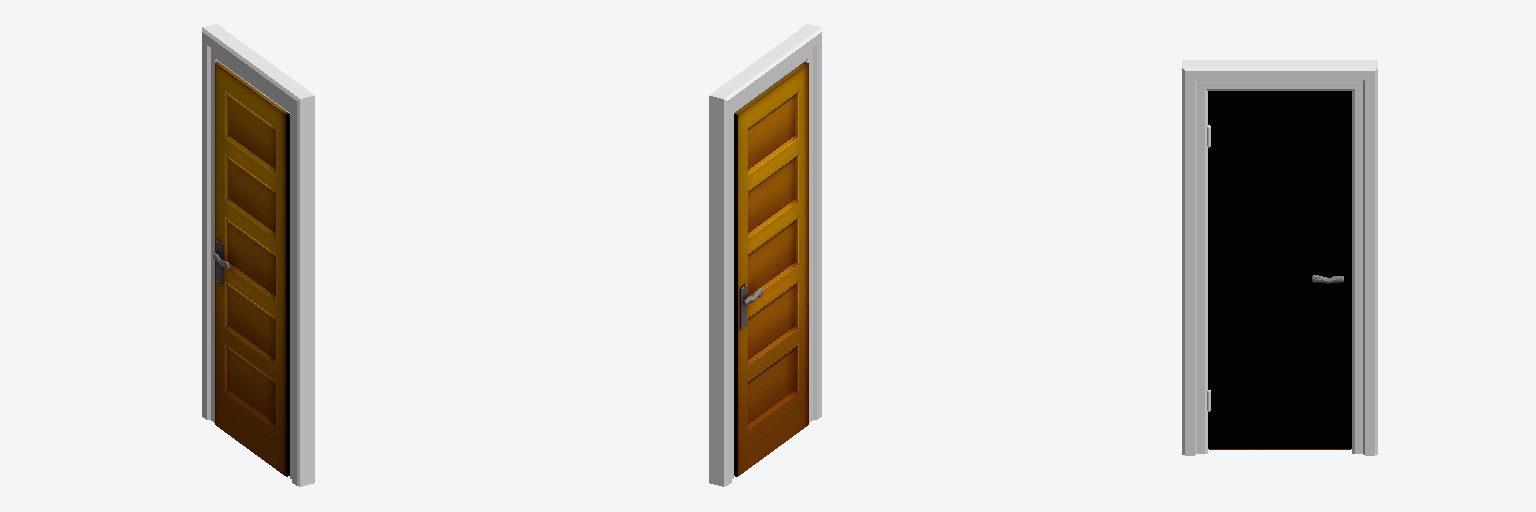
3 renders of one model, left to right at view 1: azimuth 30°, elevation 25°; view 2: azimuth 150°, elevation 25°; view 3: azimuth 270°, elevation 25°, orthographic.
Parts seen in each view (by area): view 1: door, door1; view 2: door, door1; view 3: void, door1.
Boxes of the visible parts, box(x1,y1,x2,y2) form: door: box(213, 62, 289, 476); door1: box(202, 24, 314, 486); door: box(734, 62, 808, 476); door1: box(709, 24, 821, 486); void: box(1208, 91, 1351, 448); door1: box(1182, 60, 1377, 455).
Size of the model in its own units: 0.1524 by 2.37 by 1.09.
Materials: 3 (1 with a texture image).